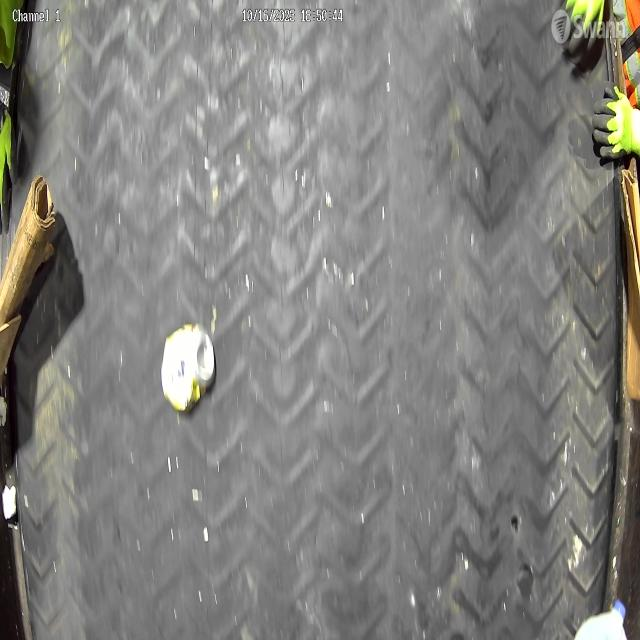can: (160, 325, 214, 413)
milk_jug: (574, 598, 627, 640)
